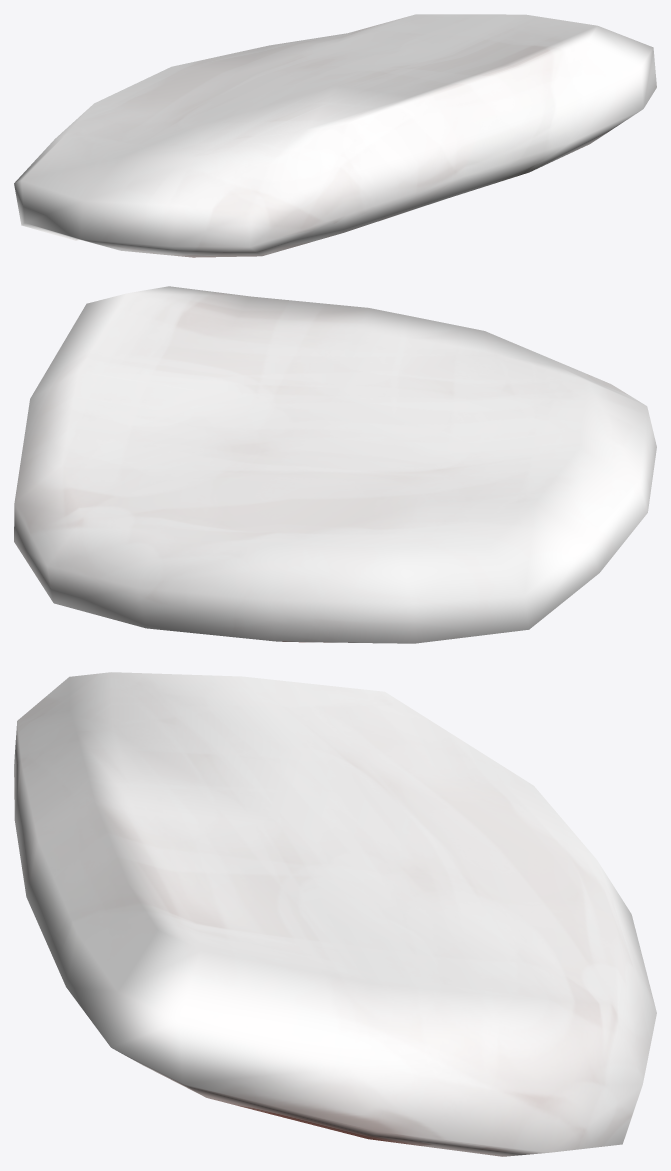
File: Fieldbump.fbx
3 renders of one model, top to bottom at view 1: azimuth 30°, elevation 25°; view 2: azimuth 150°, elevation 25°; view 3: azimuth 270°, elevation 25°, orthographic. The views are drawn at different scales.
Visible parts, largest first — view 1: LargeGroundLump2; view 2: LargeGroundLump2; view 3: LargeGroundLump2.
Boxes of the visible parts, x1,y1,x2,y2 form: LargeGroundLump2: (14, 14, 656, 257); LargeGroundLump2: (14, 286, 656, 643); LargeGroundLump2: (14, 672, 656, 1156).
Bounding box in the file's own units: 3859 × 1279 × 2681.
